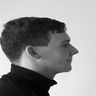ear: (24, 40, 47, 65)
